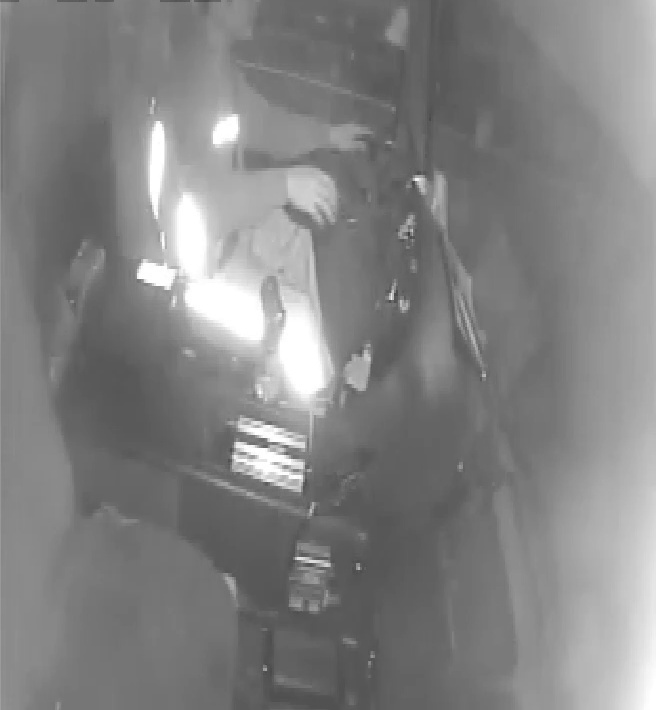cellphone: (137, 256, 180, 292)
